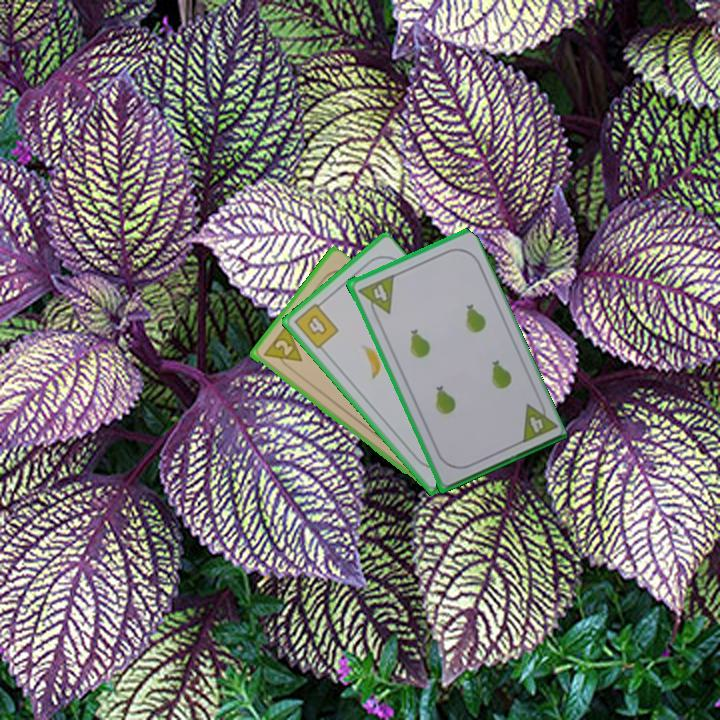2p: (258, 322, 305, 374)
4b: (290, 297, 342, 352)
4p: (367, 274, 397, 314), (525, 412, 546, 436)
